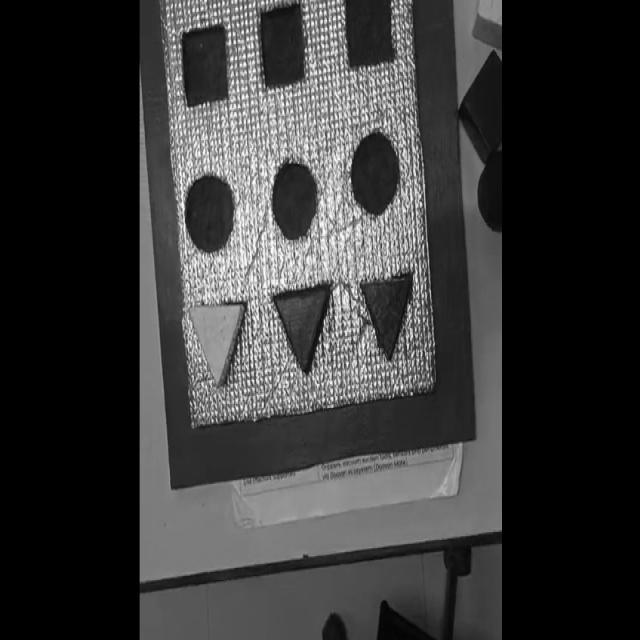bcircle: (478, 150, 502, 233)
btriangle: (358, 280, 413, 370)
mtcircle: (349, 130, 399, 218), (184, 174, 235, 253), (271, 159, 319, 240)
mtcube: (181, 24, 229, 107), (259, 2, 304, 88), (345, 0, 394, 70)
rcube: (459, 50, 502, 166)
rtriangle: (272, 285, 333, 375)
wb: (158, 0, 433, 430)
ytriangle: (188, 301, 247, 386)
